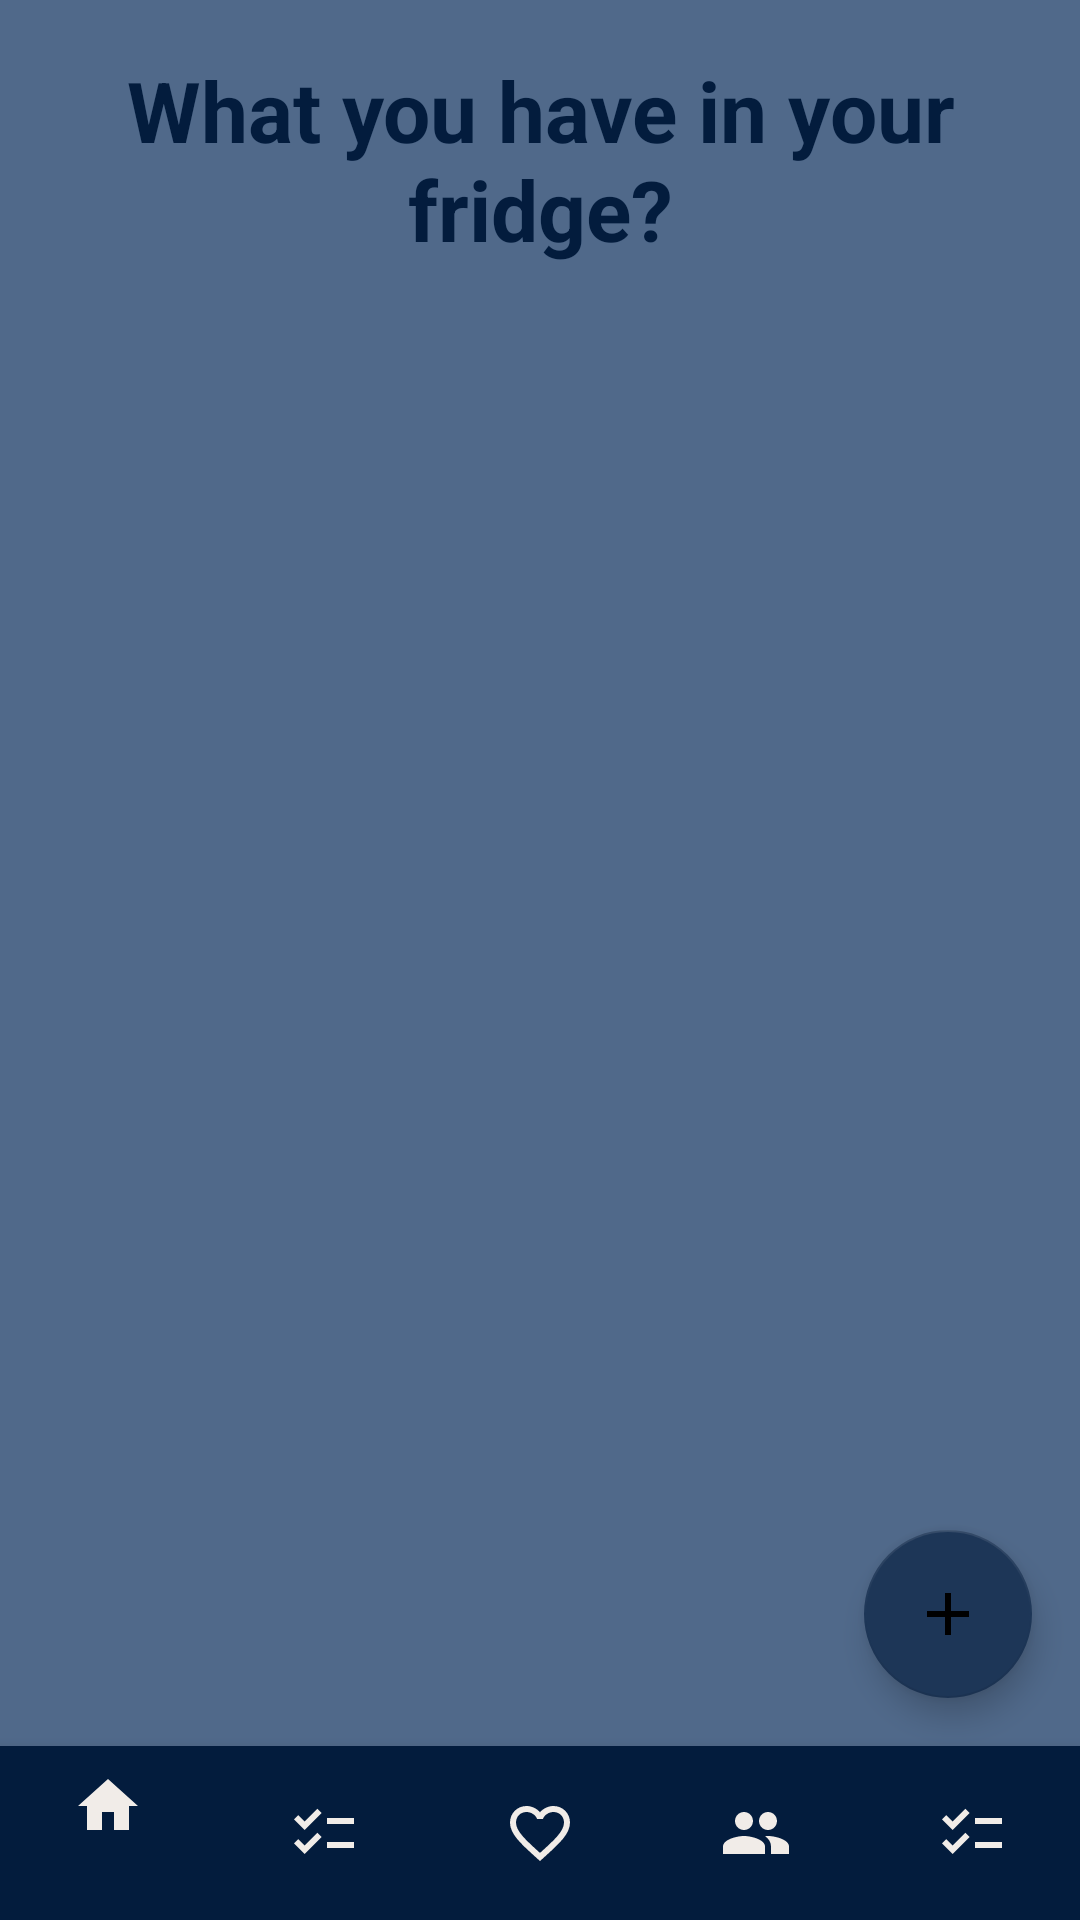

Icons on this 1080 x 1920 Android screen, each with its box as (x1, y1, x2, y2):
add: (864, 1531, 1032, 1698)
